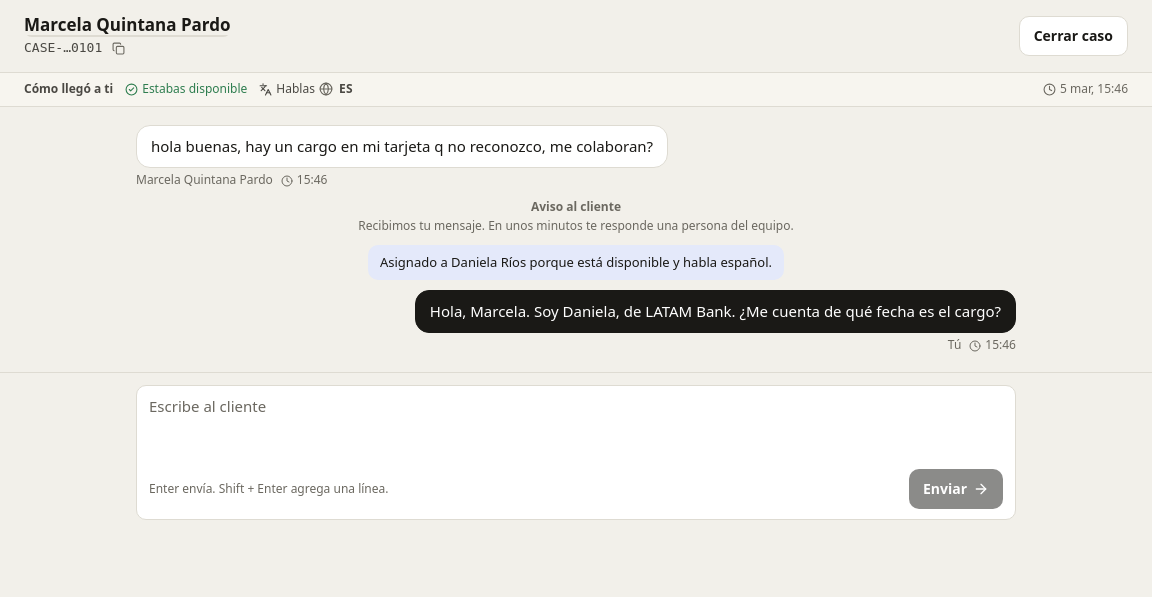
priority in "Este caso" (slice 8) › changes it from the menu with the keyboard, at once and then from the server
Click the button with aria-label "Ver ficha de Marcela Quintana Pardo". click: (127, 25)
box: [24,14,230,37]
(page scrolled)
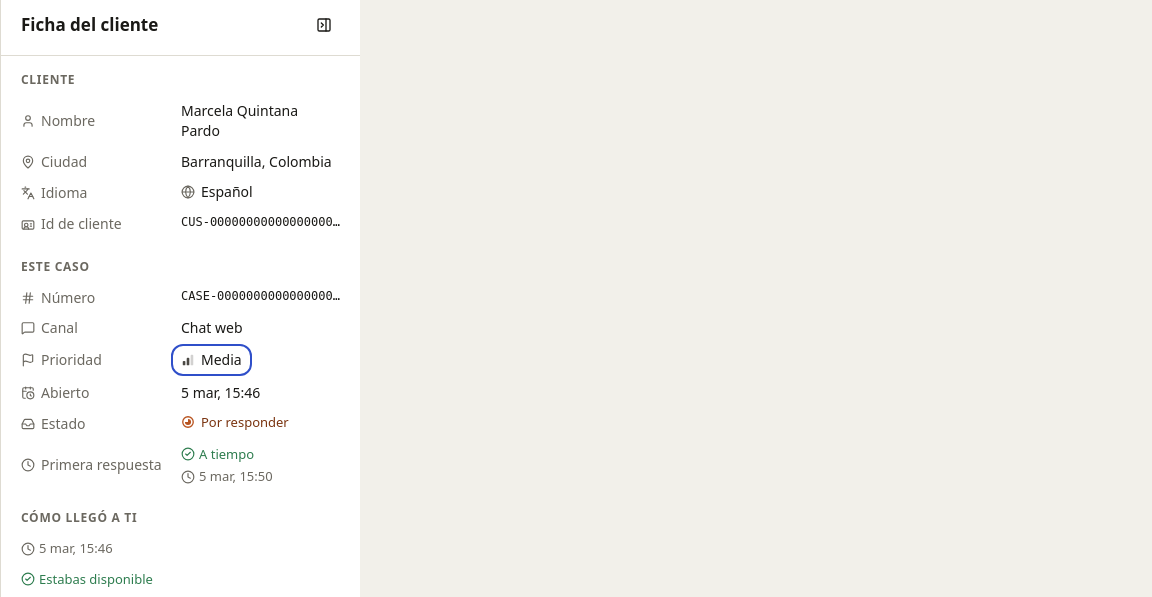
Press Enter
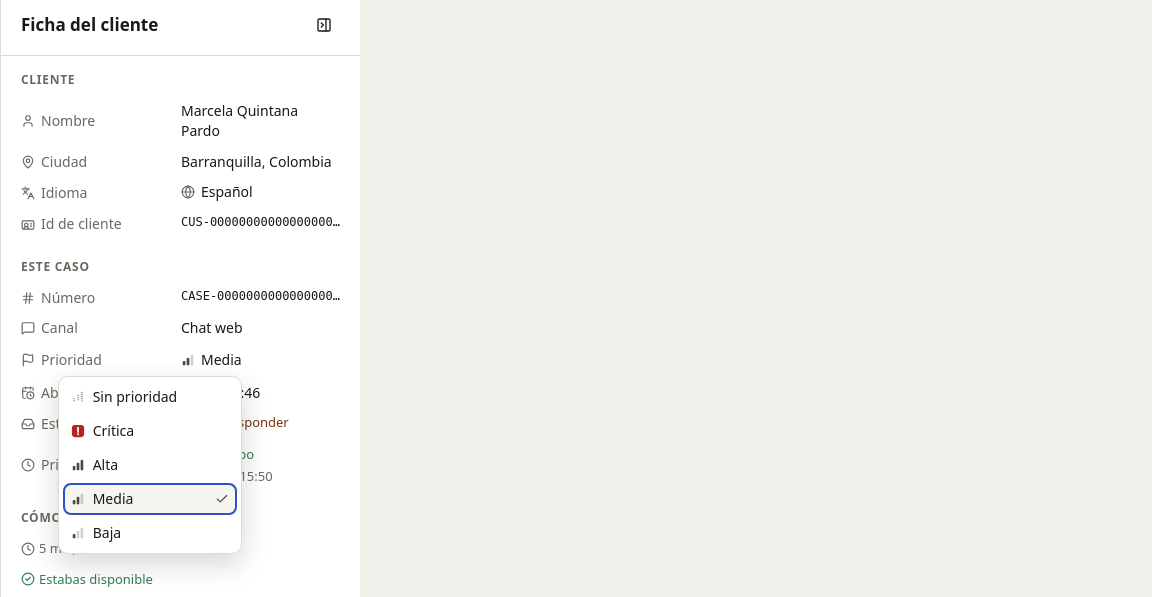
Press Arrowup Enter
(page scrolled)
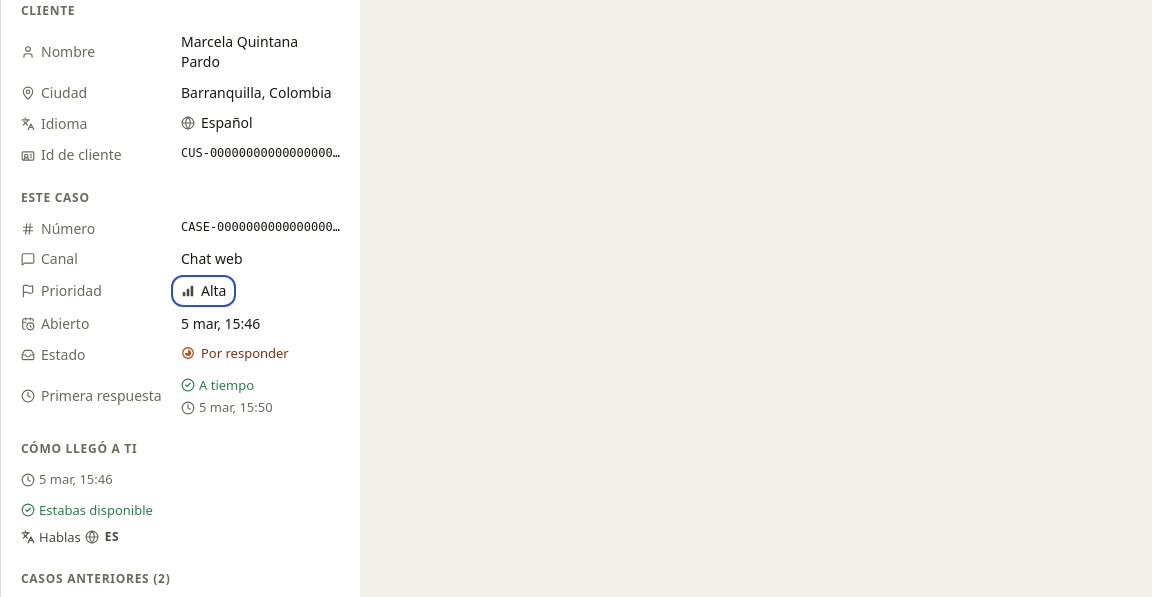
Now the button with aria-label "Prioridad: Alta. Cambiar la prioridad" is shown, box [175,279,232,304]
